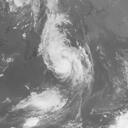cyclone: (39, 12, 93, 87)
